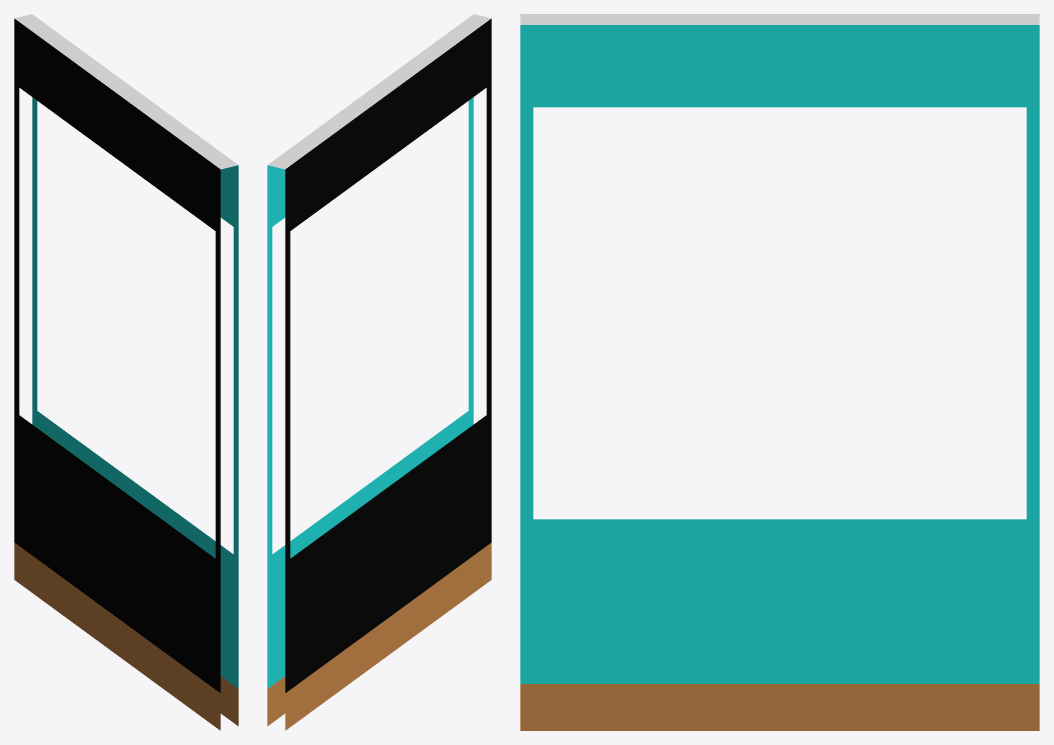
The model's file is wall_window.dae.
3 views of the same model, side by side, from view 1: azimuth 30°, elevation 25°; view 2: azimuth 150°, elevation 25°; view 3: azimuth 270°, elevation 25° (orthographic). The views are drawn at different scales.
Visible parts, largest first — view 1: Cube Window; view 2: Cube Window; view 3: Cube Window.
Part boxes in pixels (x1,y1,x2,y2): Cube Window: (14, 14, 238, 730); Cube Window: (267, 14, 491, 730); Cube Window: (520, 14, 1039, 730).
Bounding box in the file's own units: 0.1 × 2 × 3.
